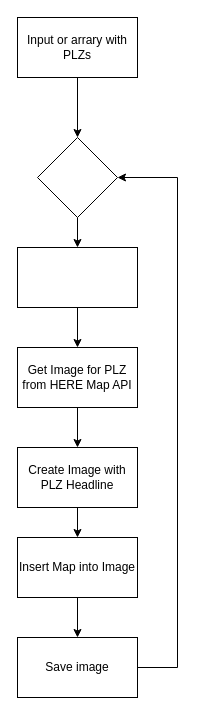
The diagram is 203 pixels wide and 715 high, and some of its shapes have lost their labels. The centre of each missing label's shape, as x and y in pixels:
"foreach PLZ" goes at point (77, 177).
"Get coordinates for shape of PLZ" goes at point (77, 277).
